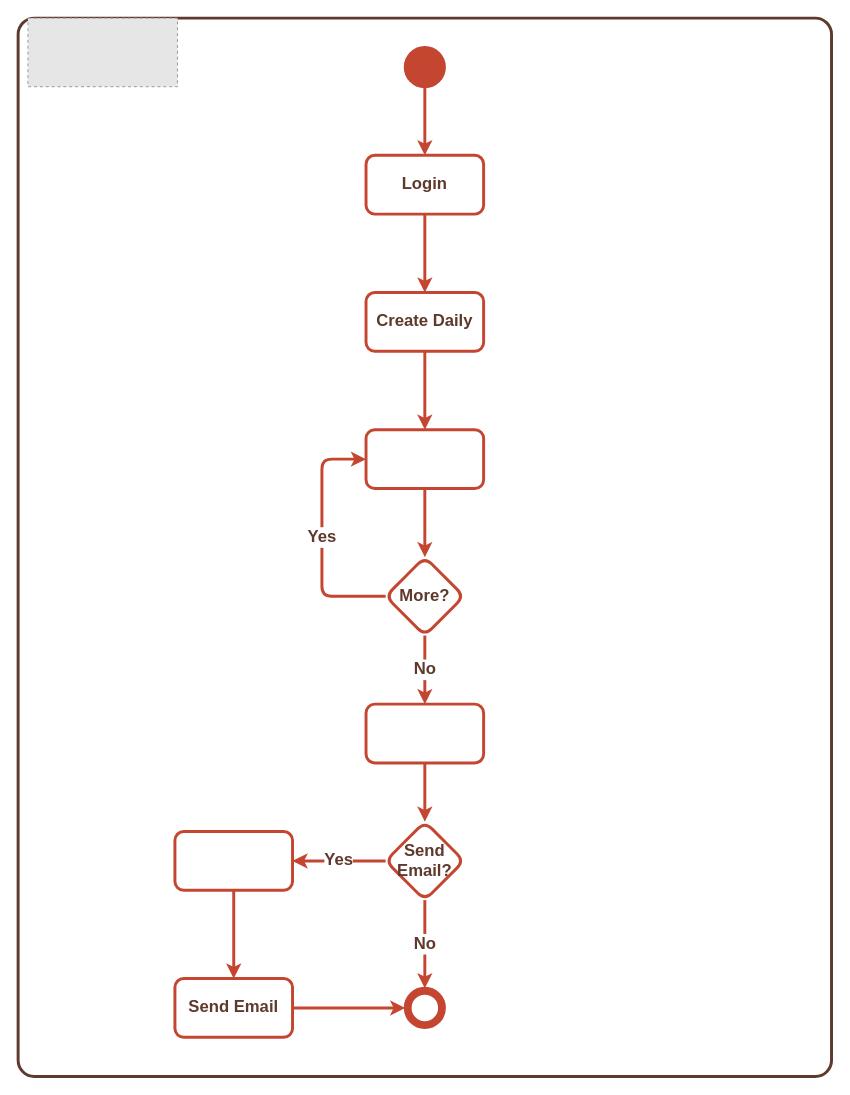
This 850x1095 diagram has some shape labels left out. Grey dashed boxes stand in for pictures. Here are the shapes that lost their labels. From the top down, the centre of each, then its label:
the point at 424,459: Add Task
the point at 424,733: Finish Daily
the point at 233,860: Verify Tasks
